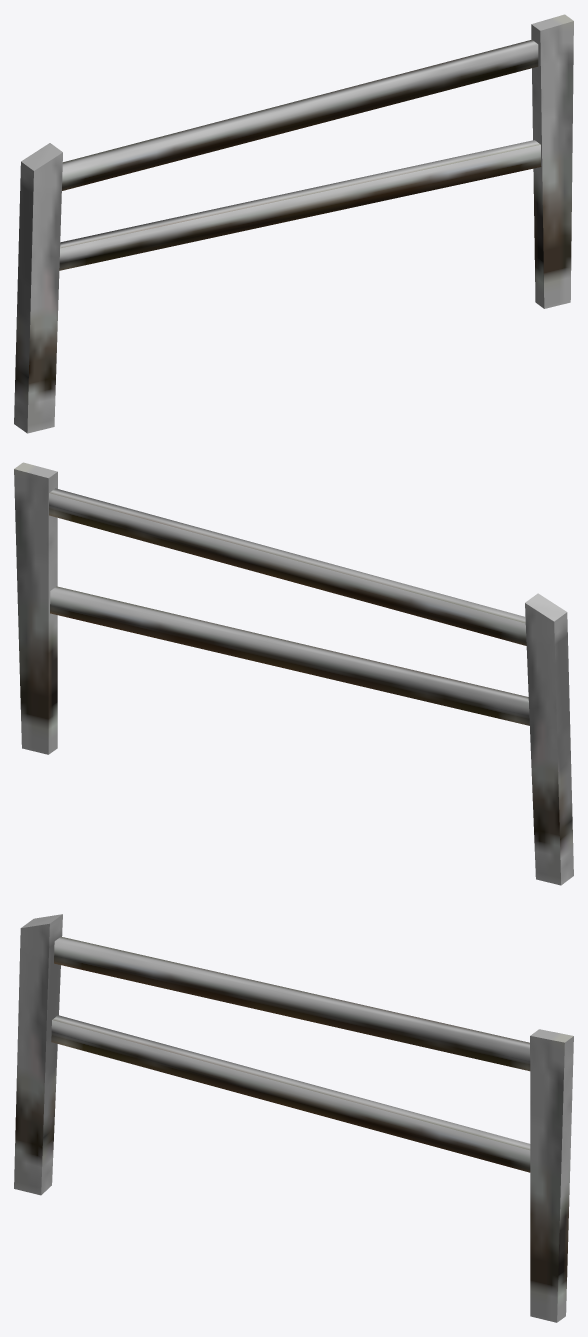
The model's file is general_obj_fence01.fbx.
The picture shows the model from 3 angles, top to bottom: view 1: azimuth 30°, elevation 25°; view 2: azimuth 150°, elevation 25°; view 3: azimuth 330°, elevation 25°; orthographic projection.
Parts seen in each view (by area): view 1: Sphere01; view 2: Sphere01; view 3: Sphere01.
Boxes of the visible parts, box(x1,y1,x2,y2) form: Sphere01: box(14, 14, 573, 433); Sphere01: box(14, 462, 573, 885); Sphere01: box(14, 914, 573, 1322).
Bounding box in the file's own units: 4.44 × 2.16 × 0.2065.
